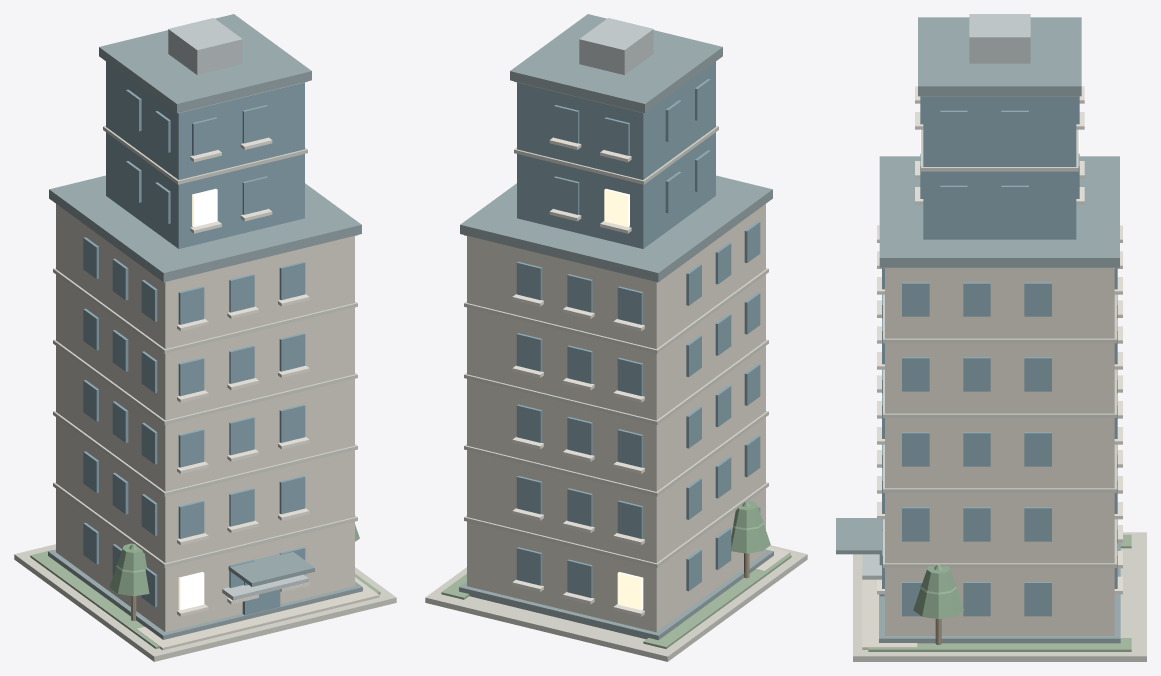
The model's file is remaster_office_0.glb.
3 views of the same model, side by side, from view 1: azimuth 30°, elevation 25°; view 2: azimuth 150°, elevation 25°; view 3: azimuth 270°, elevation 25° (orthographic). The views are drawn at different scales.
Parts seen in each view (by area): view 1: remaster_office_0 cream, remaster_office_0 glass, remaster_office_0 roof, remaster_office_0 stone, remaster_office_0 metal, remaster_office_0 white, remaster_office_0 green, remaster_office_0 warm, remaster_office_0 leaf; view 2: remaster_office_0 cream, remaster_office_0 glass, remaster_office_0 roof, remaster_office_0 stone, remaster_office_0 white, remaster_office_0 metal, remaster_office_0 green, remaster_office_0 warm, remaster_office_0 leaf; view 3: remaster_office_0 cream, remaster_office_0 glass, remaster_office_0 roof, remaster_office_0 stone, remaster_office_0 white, remaster_office_0 metal, remaster_office_0 green, remaster_office_0 leaf.
Boxes of the visible parts, bbox=[...] form: remaster_office_0 cream: bbox=[56, 204, 379, 650]; remaster_office_0 glass: bbox=[83, 61, 305, 615]; remaster_office_0 roof: bbox=[48, 14, 362, 639]; remaster_office_0 stone: bbox=[14, 81, 396, 661]; remaster_office_0 metal: bbox=[168, 18, 308, 600]; remaster_office_0 white: bbox=[177, 137, 309, 616]; remaster_office_0 green: bbox=[30, 550, 380, 648]; remaster_office_0 warm: bbox=[178, 188, 217, 610]; remaster_office_0 leaf: bbox=[109, 524, 359, 596]; remaster_office_0 cream: bbox=[467, 204, 790, 632]; remaster_office_0 glass: bbox=[516, 61, 760, 597]; remaster_office_0 roof: bbox=[459, 14, 773, 640]; remaster_office_0 stone: bbox=[425, 81, 807, 661]; remaster_office_0 white: bbox=[512, 137, 644, 616]; remaster_office_0 metal: bbox=[579, 18, 653, 74]; remaster_office_0 green: bbox=[441, 554, 791, 648]; remaster_office_0 warm: bbox=[604, 188, 643, 610]; remaster_office_0 leaf: bbox=[731, 501, 770, 553]; remaster_office_0 cream: bbox=[862, 268, 1114, 649]; remaster_office_0 glass: bbox=[879, 96, 1117, 616]; remaster_office_0 roof: bbox=[836, 17, 1120, 643]; remaster_office_0 stone: bbox=[853, 96, 1146, 661]; remaster_office_0 white: bbox=[877, 86, 1122, 594]; remaster_office_0 metal: bbox=[862, 14, 1030, 579]; remaster_office_0 green: bbox=[868, 534, 1131, 651]; remaster_office_0 leaf: bbox=[913, 564, 963, 619].
Bounding box in the file's own units: 9.64 × 20.7 × 10.15.
